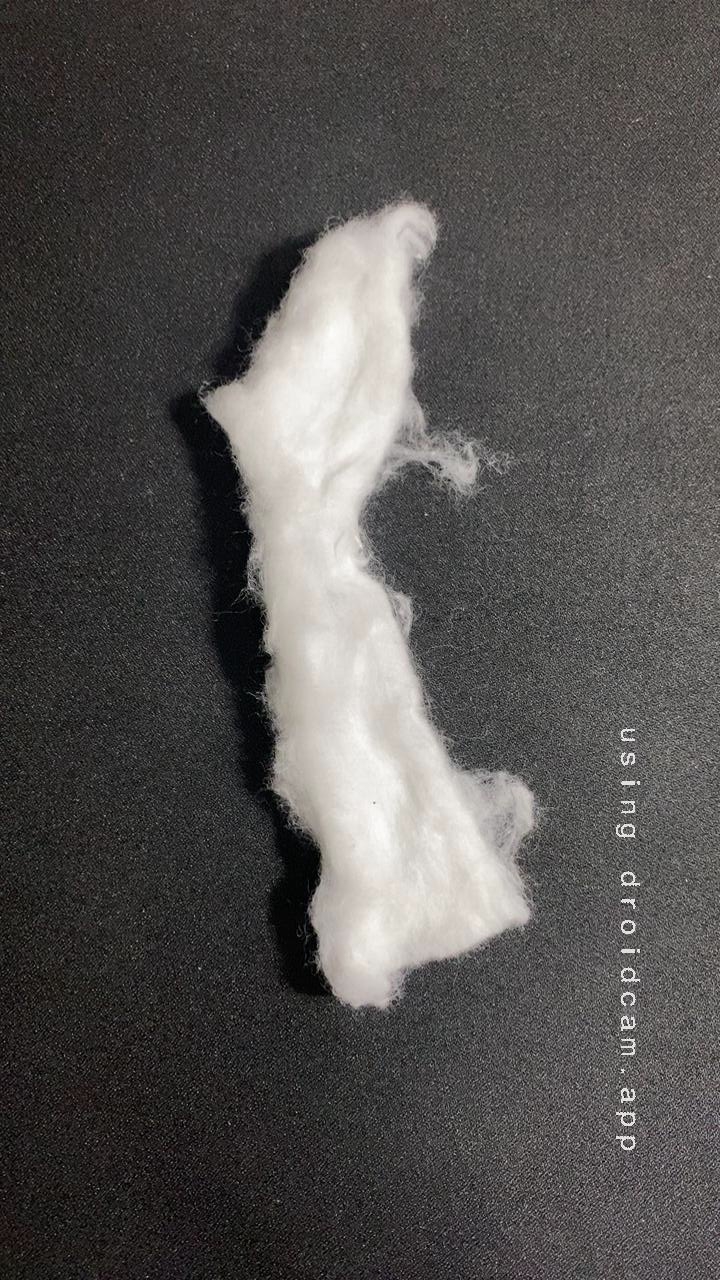cotton: (164, 181, 553, 810)
